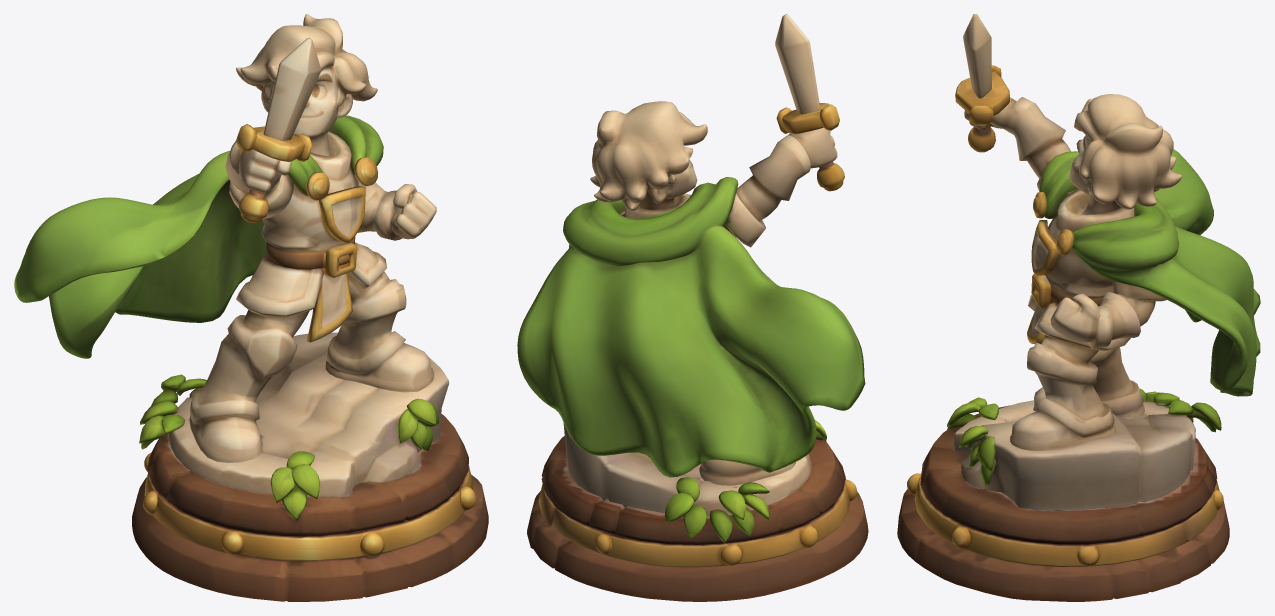
File: keep_hero.glb
3 renders of one model, left to right at view 1: azimuth 30°, elevation 25°; view 2: azimuth 150°, elevation 25°; view 3: azimuth 270°, elevation 25°, orthographic. The views are drawn at different scales.
Visible parts, largest first — view 1: tripo_node_cd25f1b5-16aa-4988-9161-41f0d20bda7e; view 2: tripo_node_cd25f1b5-16aa-4988-9161-41f0d20bda7e; view 3: tripo_node_cd25f1b5-16aa-4988-9161-41f0d20bda7e.
Boxes of the visible parts, left/top/right/bottom form: tripo_node_cd25f1b5-16aa-4988-9161-41f0d20bda7e: left=14, top=14, right=488, bottom=601; tripo_node_cd25f1b5-16aa-4988-9161-41f0d20bda7e: left=517, top=14, right=868, bottom=601; tripo_node_cd25f1b5-16aa-4988-9161-41f0d20bda7e: left=897, top=14, right=1260, bottom=601.
Bounding box in the file's own units: 0.7534 × 0.9995 × 0.6655.
Materials: 1 (1 with a texture image).
